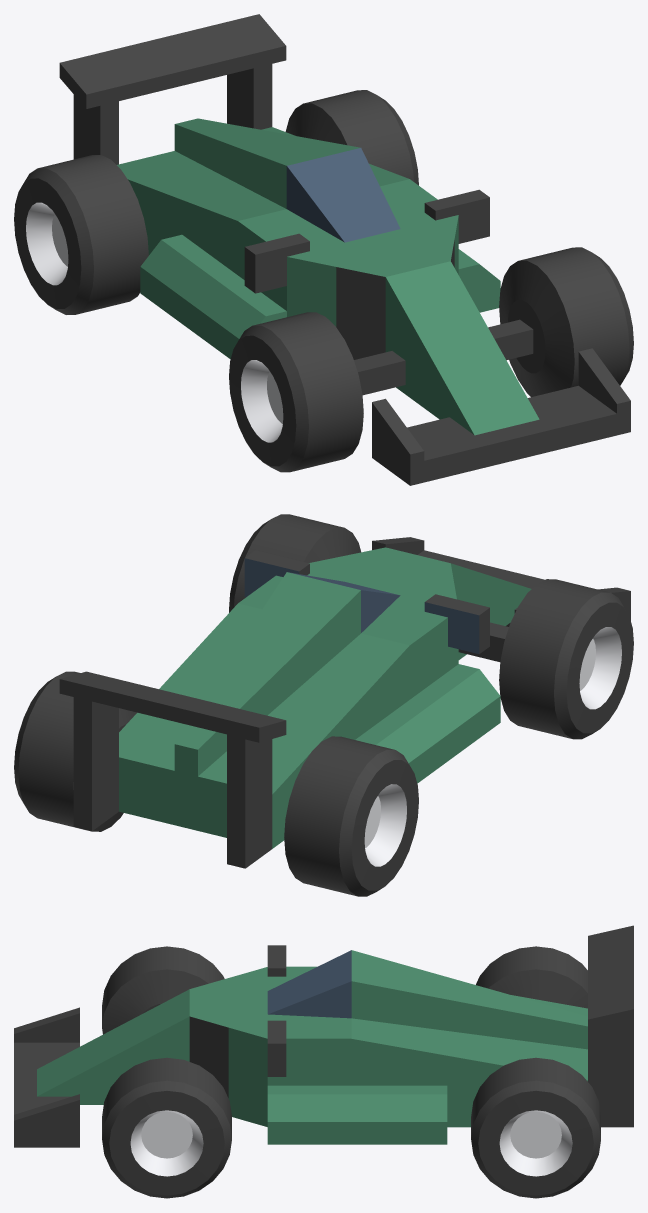
Rendered from formula-green.glb.
The picture shows the model from 3 angles, top to bottom: view 1: azimuth 30°, elevation 25°; view 2: azimuth 150°, elevation 25°; view 3: azimuth 270°, elevation 25°; orthographic projection. The views are drawn at different scales.
Visible parts, largest first — view 1: body, wheelFrontRight, wheelBackRight, wheelFrontLeft, wheelBackLeft; view 2: body, wheelBackRight, wheelFrontRight, wheelBackLeft, wheelFrontLeft; view 3: body, wheelBackLeft, wheelFrontLeft, wheelFrontRight, wheelBackRight.
Part boxes in pixels (box(x1,y1,x2,y2)): body: box(59, 14, 630, 485); wheelFrontRight: box(229, 312, 363, 472); wheelBackRight: box(14, 155, 148, 314); wheelFrontLeft: box(499, 247, 633, 397); wheelBackLeft: box(285, 90, 418, 185); body: box(59, 537, 630, 868); wheelBackRight: box(284, 736, 418, 896); wheelFrontRight: box(499, 579, 633, 739); wheelBackLeft: box(14, 671, 136, 831); wheelFrontLeft: box(229, 514, 360, 612); body: box(14, 925, 633, 1147); wheelBackLeft: box(471, 1057, 600, 1198); wheelFrontLeft: box(102, 1057, 231, 1198); wheelFrontRight: box(102, 946, 224, 1034); wheelBackRight: box(476, 946, 587, 1008).
Bounding box in the file's own units: 0.7288 × 0.397 × 1.35.
